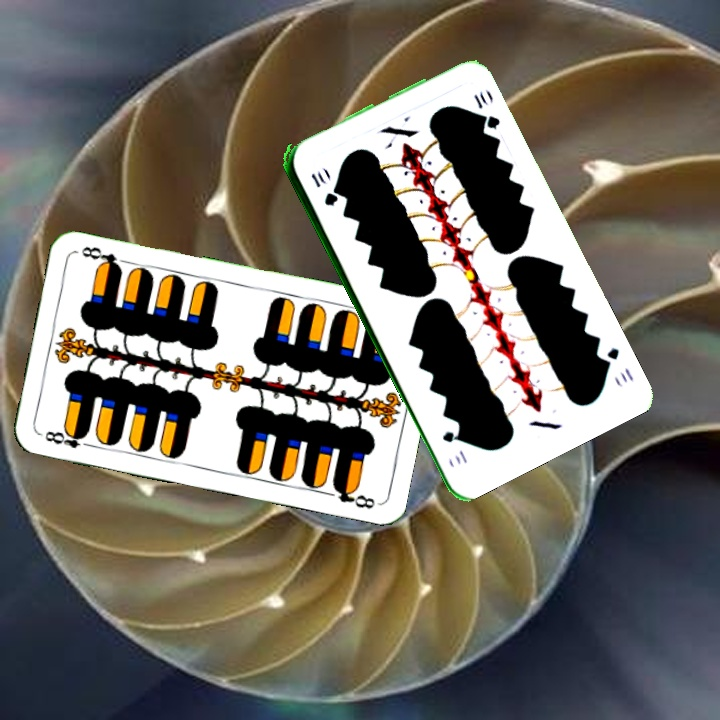E8: (41, 425, 96, 451)
G10: (596, 343, 636, 384), (306, 168, 339, 209)
